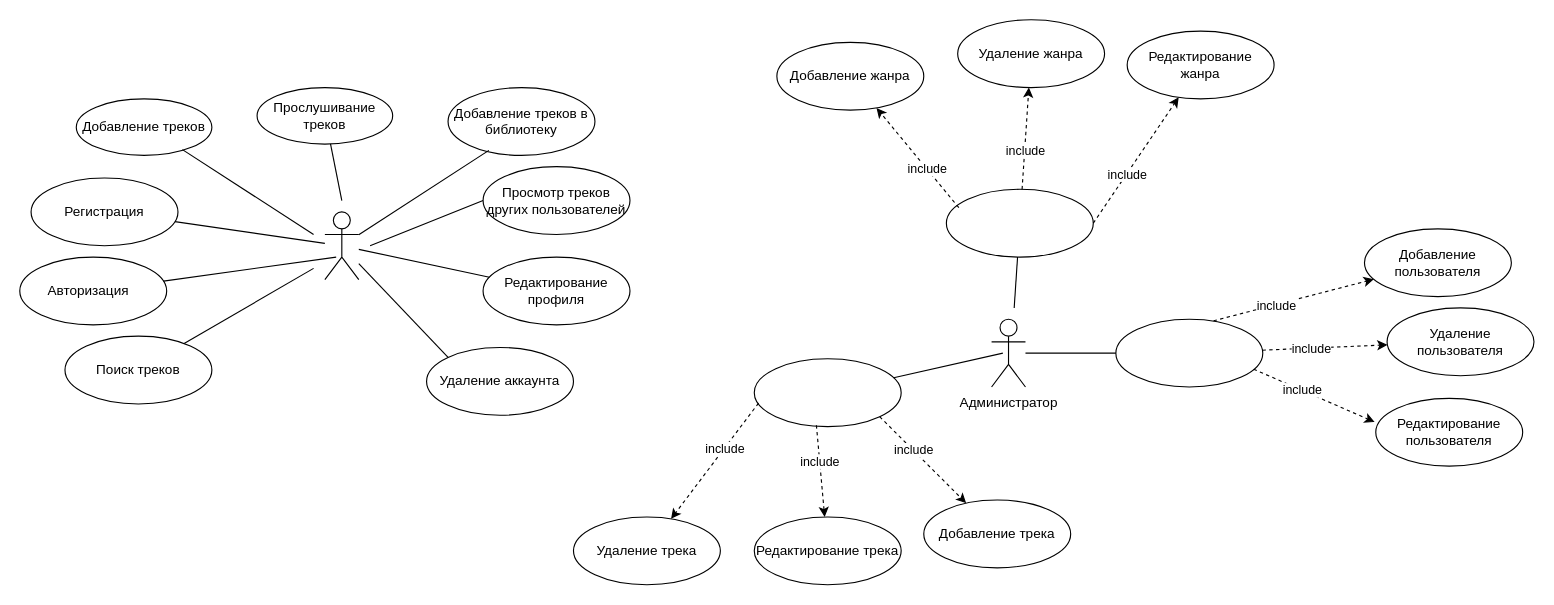
Image size: 1554x605. Some labels were removed from this diagram. Here are the shapes that lost their labels. From the top down, the centre of each, then its label:
At point (1019, 222): "Управление жанрами".
At point (341, 245): "Пользователь".
At point (1189, 352): "Управление пользователями".
At point (827, 392): "Управление треками".
